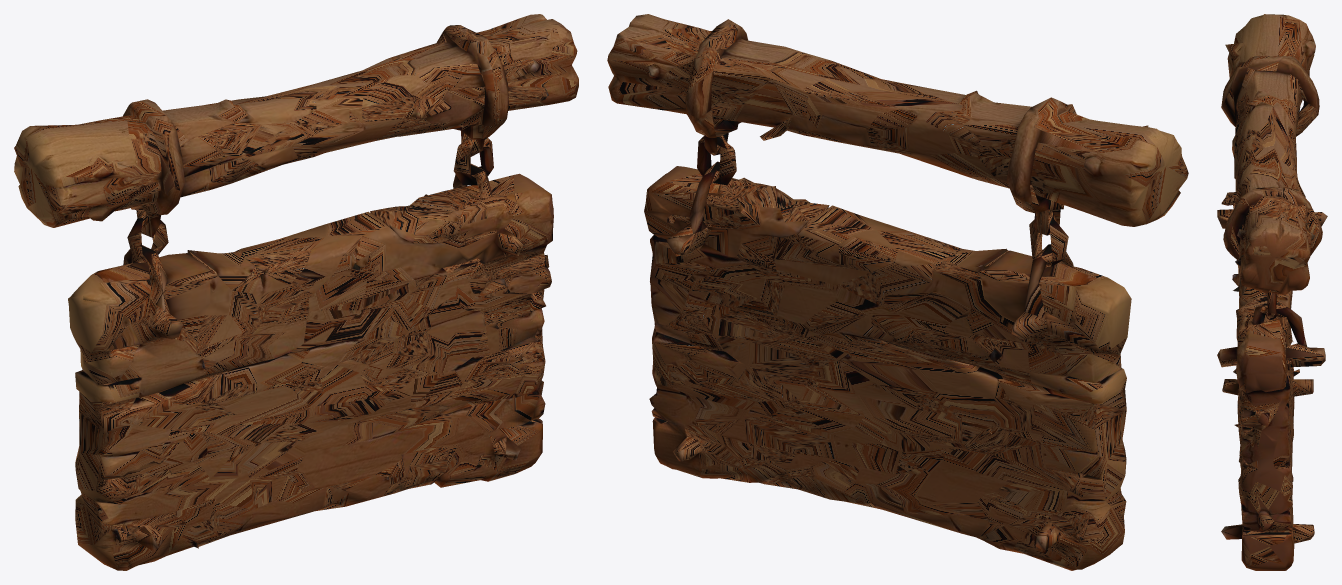
File: mineshaft_sign_01.glb
The picture shows the model from 3 angles, left to right: view 1: azimuth 30°, elevation 25°; view 2: azimuth 150°, elevation 25°; view 3: azimuth 270°, elevation 25°; orthographic projection. The views are drawn at different scales.
Visible parts, largest first — view 1: tripo_node_ab985763-edc3-4b0c-84f2-b8d4b033a068; view 2: tripo_node_ab985763-edc3-4b0c-84f2-b8d4b033a068; view 3: tripo_node_ab985763-edc3-4b0c-84f2-b8d4b033a068.
Part boxes in pixels (x1,y1,x2,y2): tripo_node_ab985763-edc3-4b0c-84f2-b8d4b033a068: [14, 14, 578, 570]; tripo_node_ab985763-edc3-4b0c-84f2-b8d4b033a068: [607, 14, 1188, 570]; tripo_node_ab985763-edc3-4b0c-84f2-b8d4b033a068: [1217, 14, 1327, 570].
Size of the model in its own units: 0.9803 by 0.7799 by 0.2119.
1 material, 1 textured.
